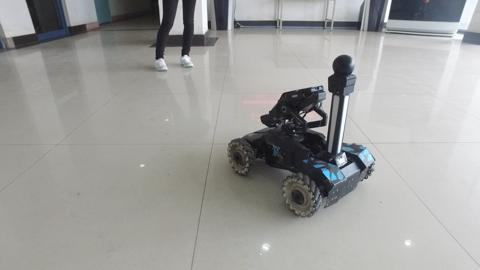chariot: (225, 52, 376, 219)
